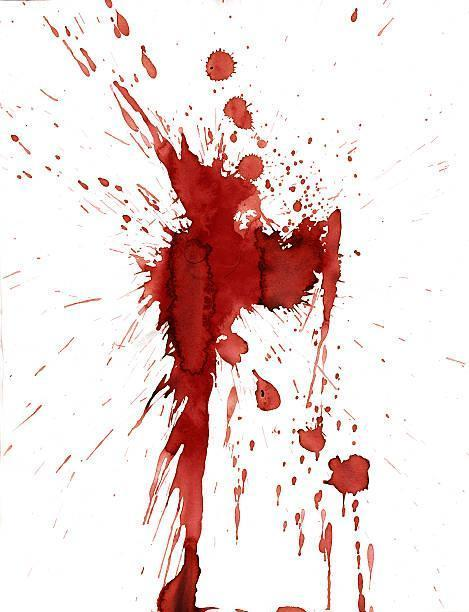Fire: (116, 82, 341, 612), (2, 120, 163, 235), (257, 127, 324, 232), (324, 455, 370, 504), (319, 510, 333, 612), (61, 38, 96, 76), (298, 417, 326, 462), (253, 370, 281, 412), (206, 49, 237, 80), (224, 96, 252, 128), (224, 387, 239, 446), (110, 9, 130, 36), (141, 45, 157, 78), (295, 510, 305, 558), (44, 15, 59, 38), (359, 573, 366, 612), (351, 7, 358, 22), (236, 514, 240, 540), (358, 543, 361, 570), (353, 501, 358, 512), (106, 0, 112, 8), (355, 517, 358, 532)
